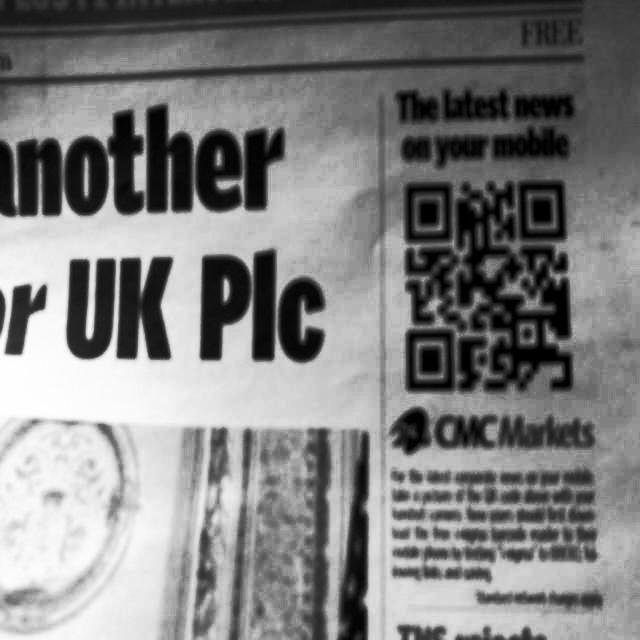qr_code: (407, 182, 572, 390)
